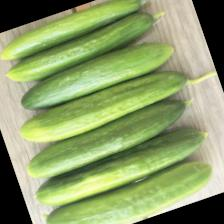cucumber: (18, 92, 202, 184), (28, 122, 214, 213), (13, 60, 193, 152), (0, 2, 170, 90), (13, 31, 178, 116), (40, 153, 220, 224), (0, 0, 151, 65)
